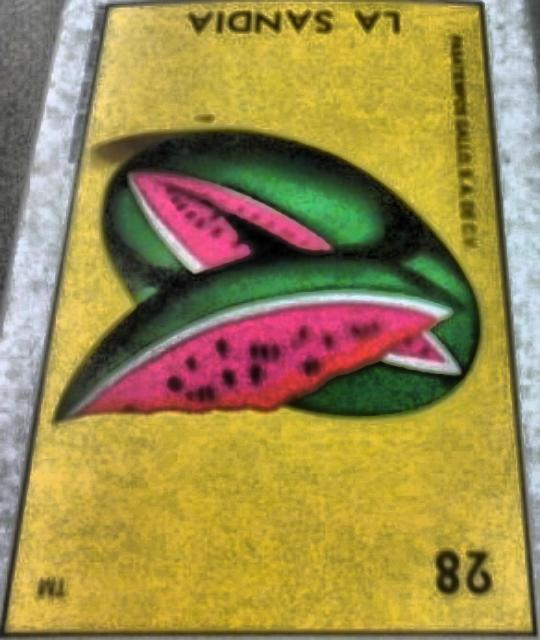La Sandia: (4, 2, 538, 636)
